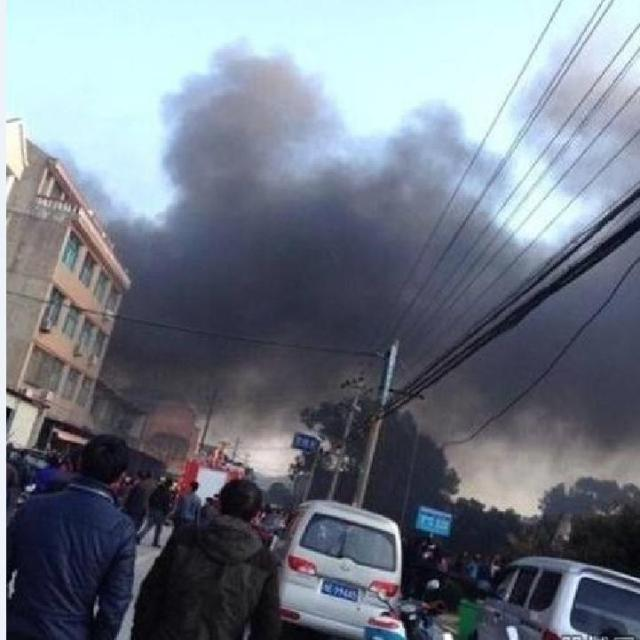Smoke: (49, 35, 640, 518)
